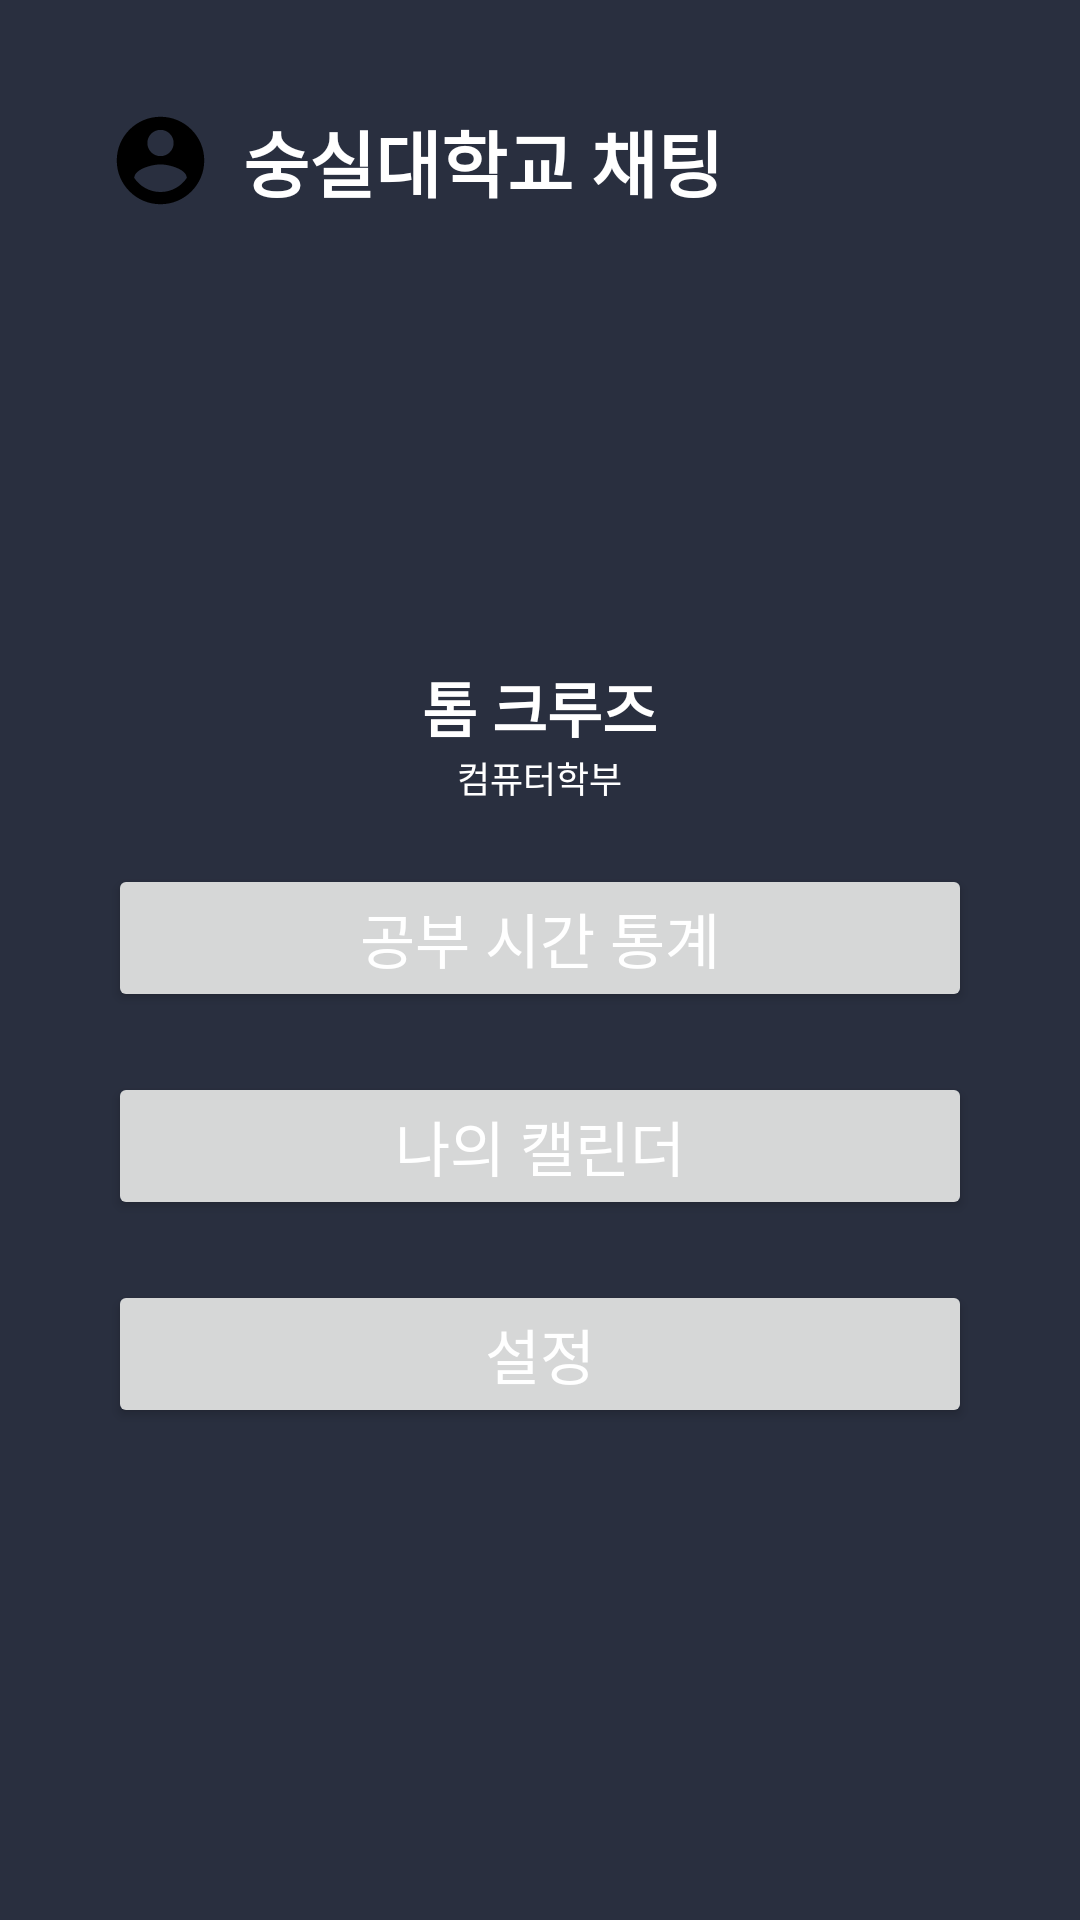

Named icons in this screenshot (1080x1920) and their bounding boxes, detection(x1, y1, x2, y2):
account circle: detection(117, 117, 204, 204)
